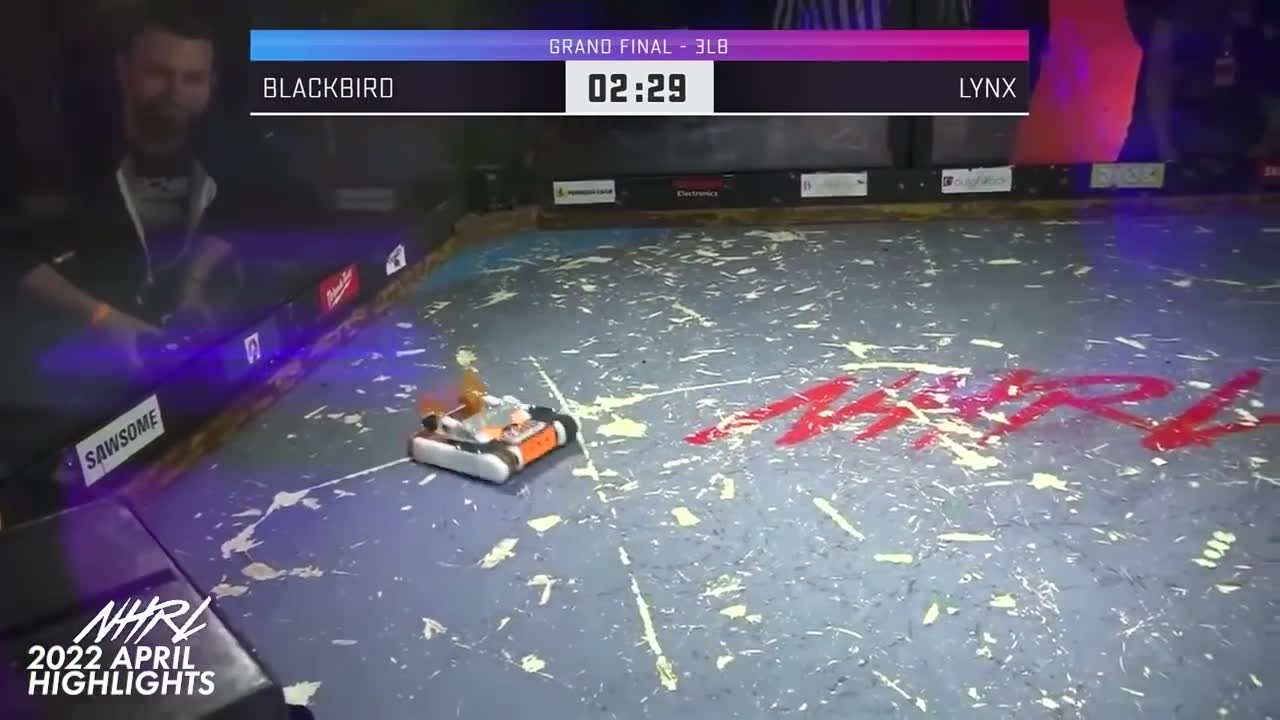combatbot: (403, 365, 579, 486)
housebot: (0, 487, 298, 720)
